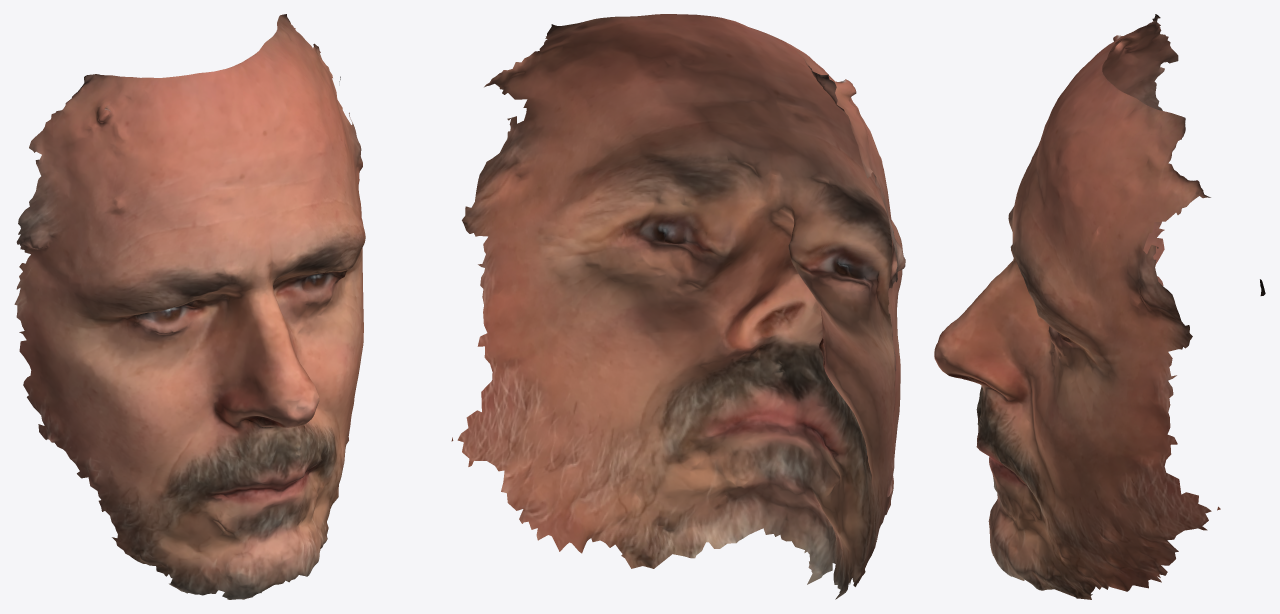
File: sebas.fbx
3 renders of one model, left to right at view 1: azimuth 30°, elevation 25°; view 2: azimuth 150°, elevation 25°; view 3: azimuth 270°, elevation 25°, orthographic. The views are drawn at different scales.
Parts seen in each view (by area): view 1: Sebas; view 2: Sebas; view 3: Sebas.
Boxes of the visible parts, x1=… form: Sebas: x1=14, y1=14, x2=365, y2=599; Sebas: x1=451, y1=14, x2=905, y2=599; Sebas: x1=934, y1=14, x2=1265, y2=599.
Bounding box in the file's own units: 14.63 × 18.46 × 11.16.
